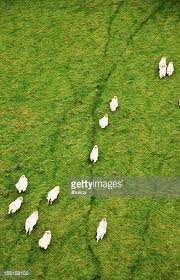sheep: (45, 183, 65, 207), (94, 217, 112, 242), (92, 111, 114, 131), (23, 211, 38, 238), (8, 195, 25, 218), (15, 174, 29, 196), (89, 144, 103, 166), (40, 230, 53, 252), (158, 51, 167, 71), (157, 66, 168, 82), (166, 60, 175, 78), (110, 97, 118, 115)
